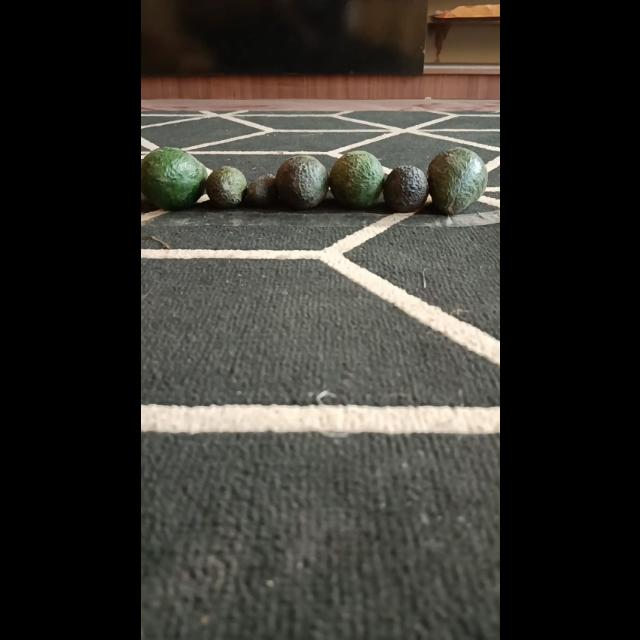Primera: (140, 146, 208, 210), (426, 147, 486, 215), (327, 150, 385, 208), (274, 155, 328, 209)
Segunda: (382, 164, 428, 213), (202, 165, 248, 209)
Tercera: (244, 173, 276, 207)
